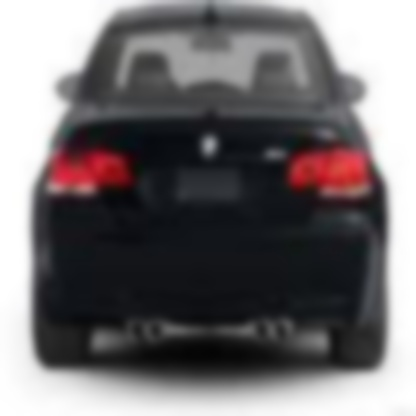Vehicle: (33, 4, 389, 384)
